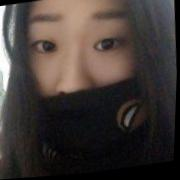WRONG: (15, 1, 156, 159)
